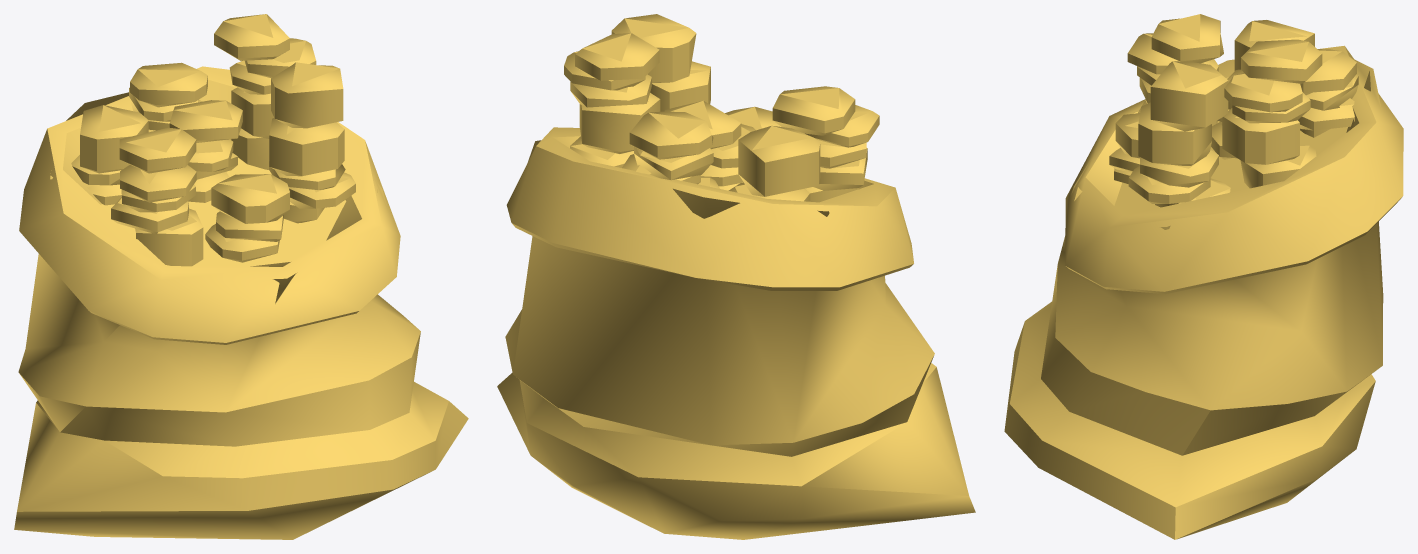
File: yuanbao.glb
3 renders of one model, left to right at view 1: azimuth 30°, elevation 25°; view 2: azimuth 150°, elevation 25°; view 3: azimuth 270°, elevation 25°, orthographic. The views are drawn at different scales.
Visible parts, largest first — view 1: Prop_GoldBag; view 2: Prop_GoldBag; view 3: Prop_GoldBag.
Boxes of the visible parts, x1,y1,x2,y2 form: Prop_GoldBag: (14, 14, 468, 539); Prop_GoldBag: (497, 14, 975, 539); Prop_GoldBag: (1004, 14, 1403, 539).
Size of the model in its own units: 1 by 0.9141 by 0.7427.
